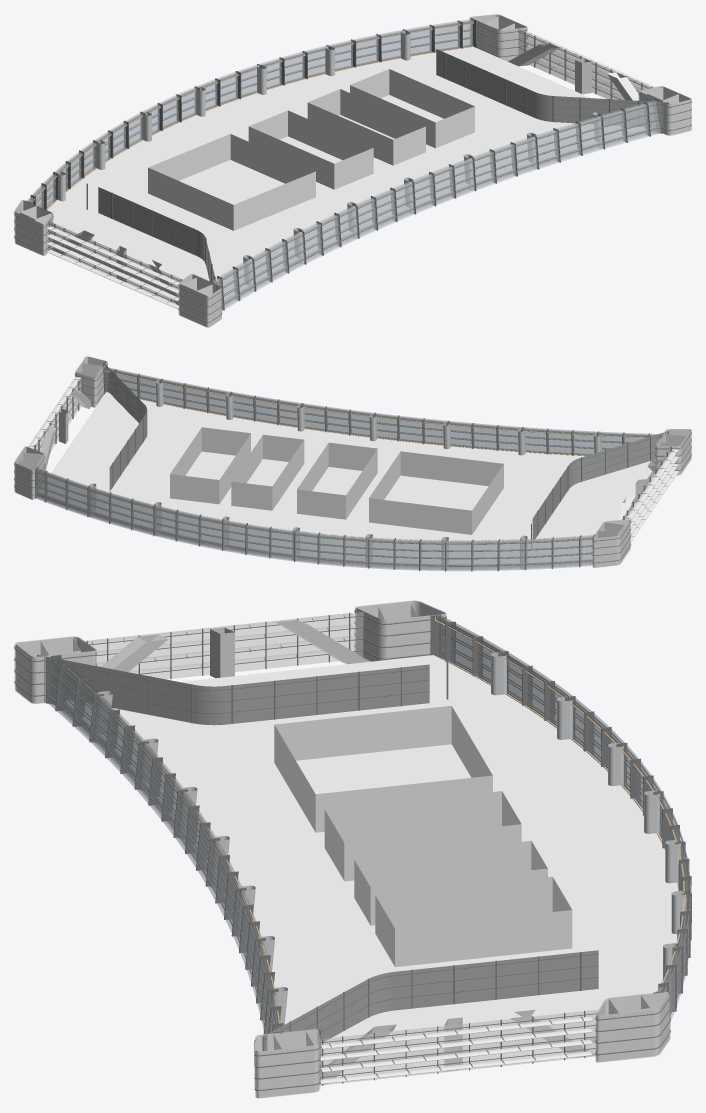
3 views of the same model, one above another, from view 1: azimuth 30°, elevation 25°; view 2: azimuth 150°, elevation 25°; view 3: azimuth 270°, elevation 25° (orthographic). The views are drawn at different scales.
Visible parts, largest first — view 1: floor.017; view 2: floor.017; view 3: floor.017.
Part boxes in pixels (left/top/right/bottom): floor.017: left=14, top=14, right=691, bottom=327; floor.017: left=14, top=356, right=691, bottom=571; floor.017: left=14, top=600, right=691, bottom=1098.
Size of the model in its own units: 81.84 by 3.93 by 51.88.
14 materials, 1 textured.
